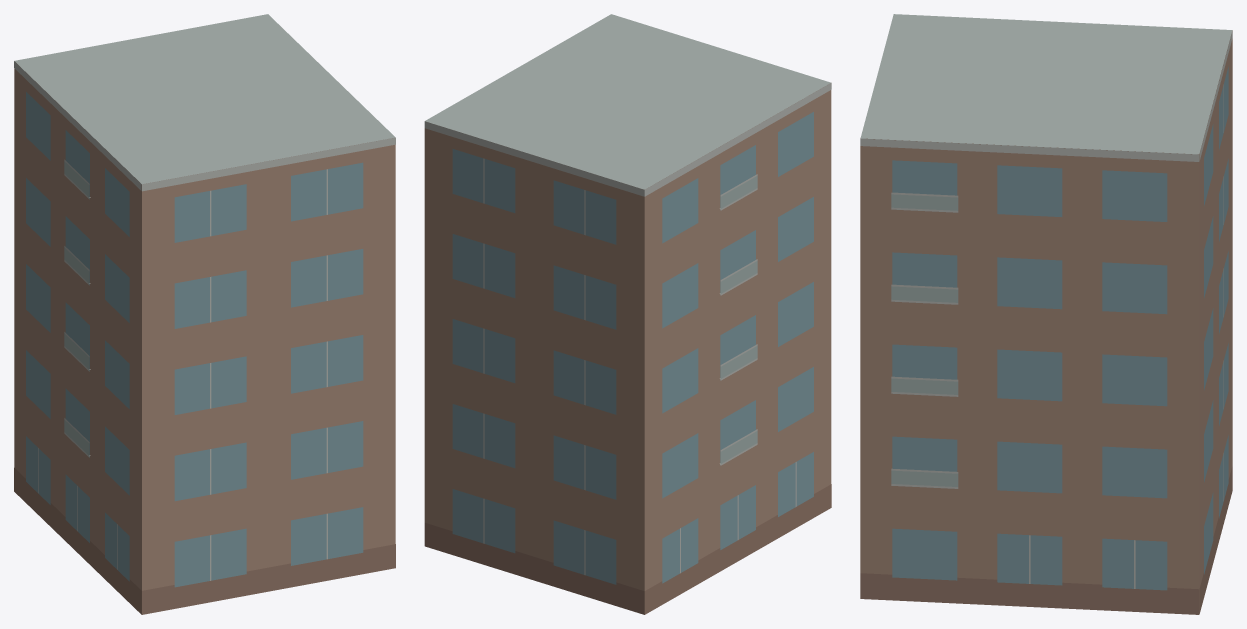
The model's file is survey-upis-32999559.glb.
The picture shows the model from 3 angles, left to right: view 1: azimuth 30°, elevation 25°; view 2: azimuth 150°, elevation 25°; view 3: azimuth 270°, elevation 25°; orthographic projection. The views are drawn at different scales.
Parts seen in each view (by area): view 1: survey-upis-32999559.tmp; view 2: survey-upis-32999559.tmp; view 3: survey-upis-32999559.tmp.
Part boxes in pixels (bbox=[...]): survey-upis-32999559.tmp: bbox=[14, 14, 395, 614]; survey-upis-32999559.tmp: bbox=[424, 14, 831, 614]; survey-upis-32999559.tmp: bbox=[860, 14, 1232, 614].
Bounding box in the file's own units: 9.66 × 14.75 × 10.81.
